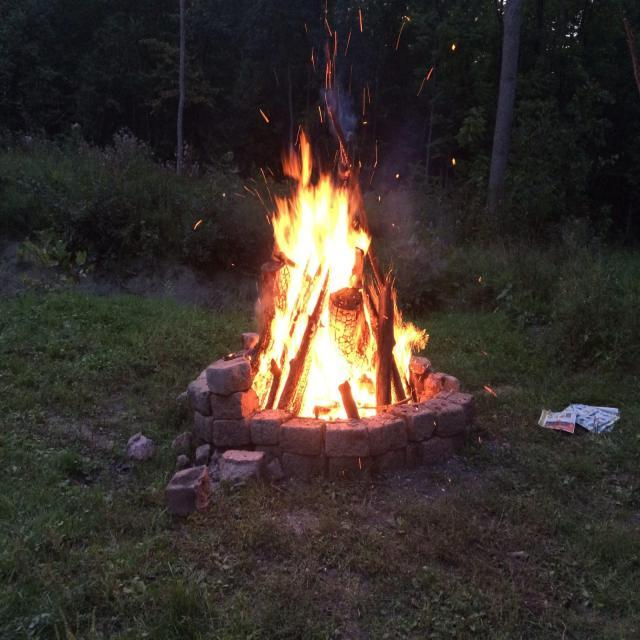Fire: (230, 116, 440, 417)
